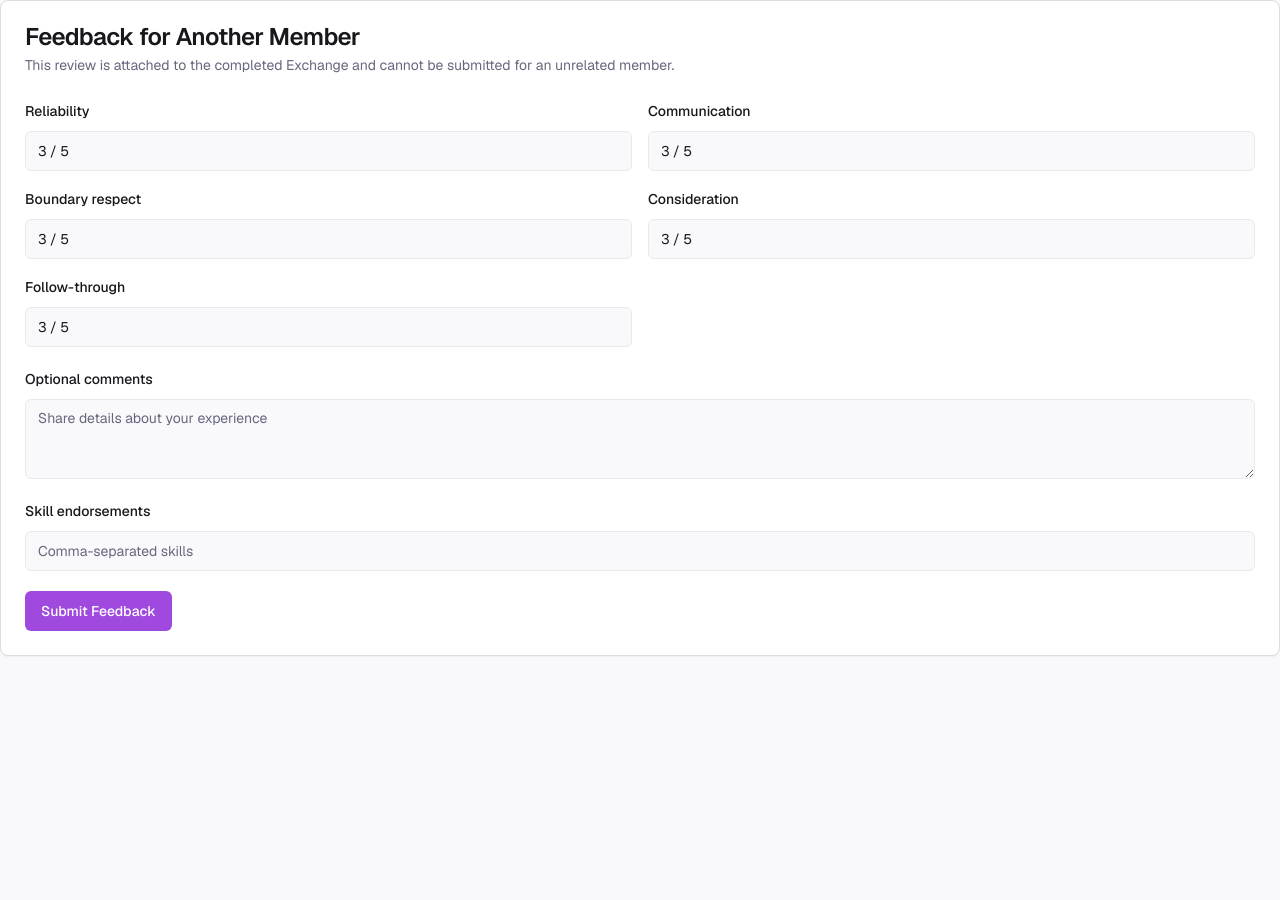
Test case: FeedbackForm › preserves server failure responses and restores submission controls
Click the button "Submit Feedback". click: [98, 611]
box: left=25, top=591, right=172, bottom=631
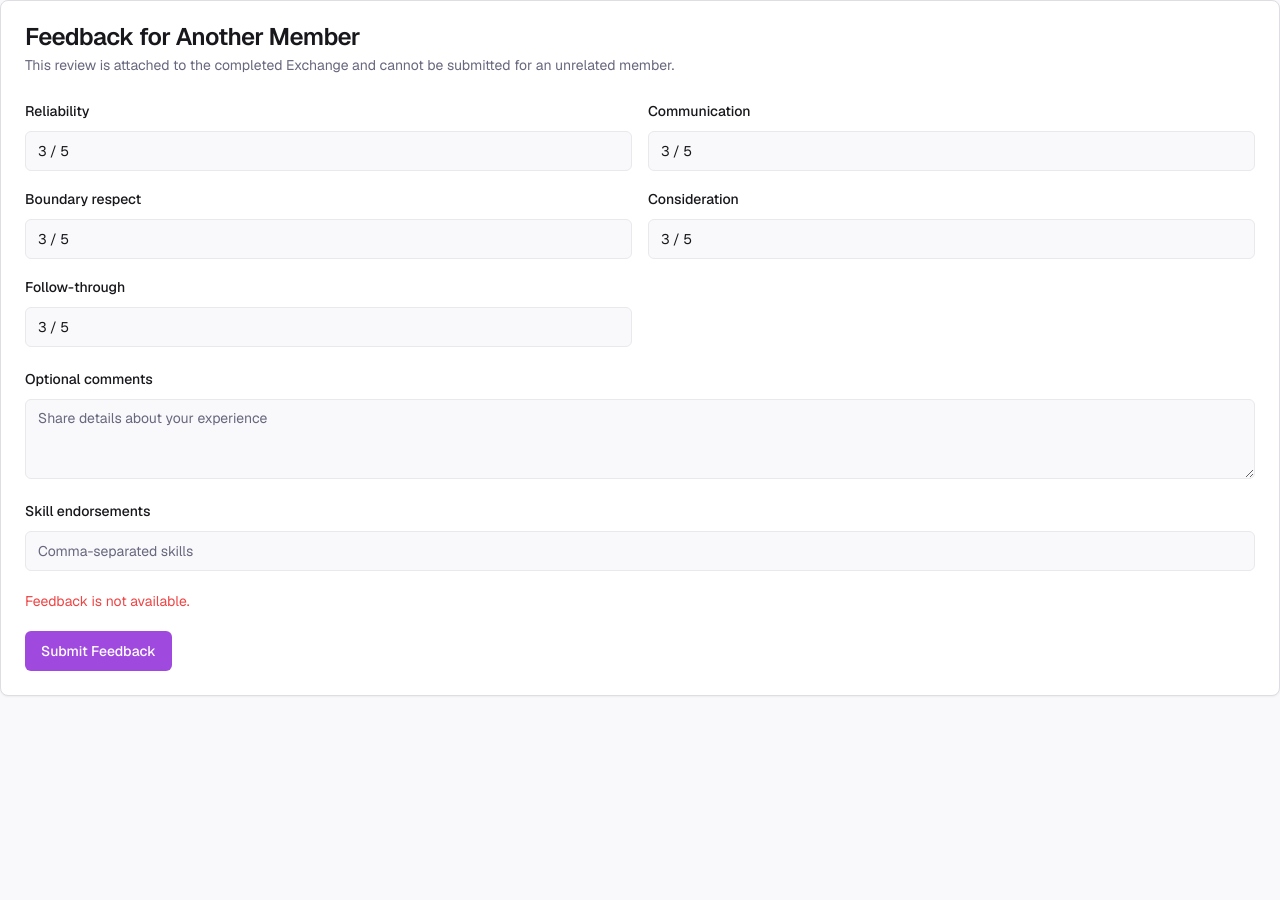
expect the button "Submit Feedback" is enabled: met, box left=25, top=631, right=172, bottom=671
expect the message reads "Feedback is not available.": met, box left=25, top=592, right=190, bottom=610
